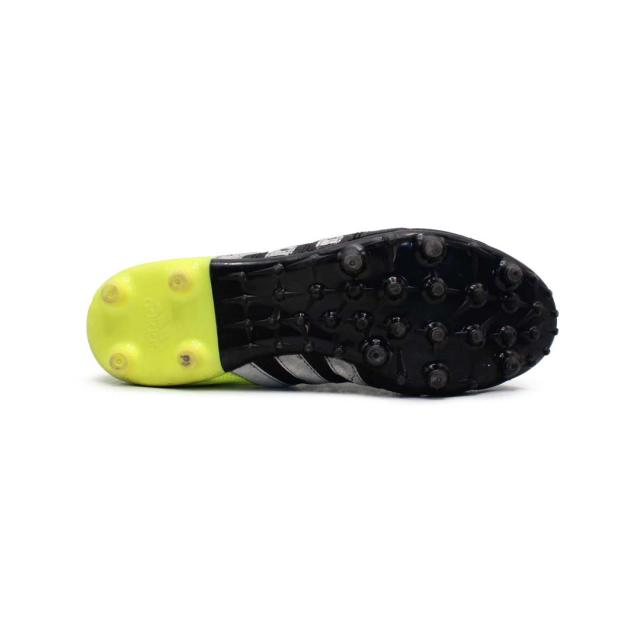outersole: (86, 226, 556, 402)
